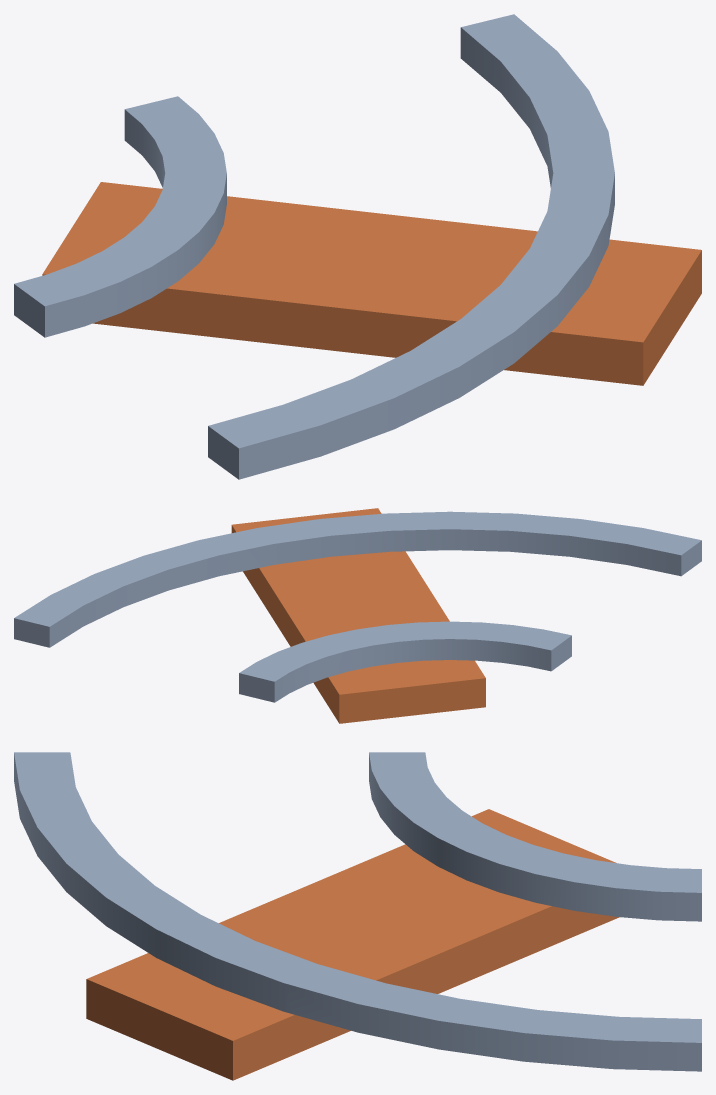
Rendered from trackCornerSmall.fbx.
3 renders of one model, top to bottom at view 1: azimuth 30°, elevation 25°; view 2: azimuth 150°, elevation 25°; view 3: azimuth 270°, elevation 25°, orthographic. The views are drawn at different scales.
Visible parts, largest first — view 1: trackCornerSmall; view 2: trackCornerSmall; view 3: trackCornerSmall.
Boxes of the visible parts, x1=… form: trackCornerSmall: x1=14, y1=14, x2=701, y2=479; trackCornerSmall: x1=14, y1=508, x2=701, y2=723; trackCornerSmall: x1=14, y1=752, x2=701, y2=1080.
Bounding box in the file's own units: 2.2 × 0.241 × 2.2.
